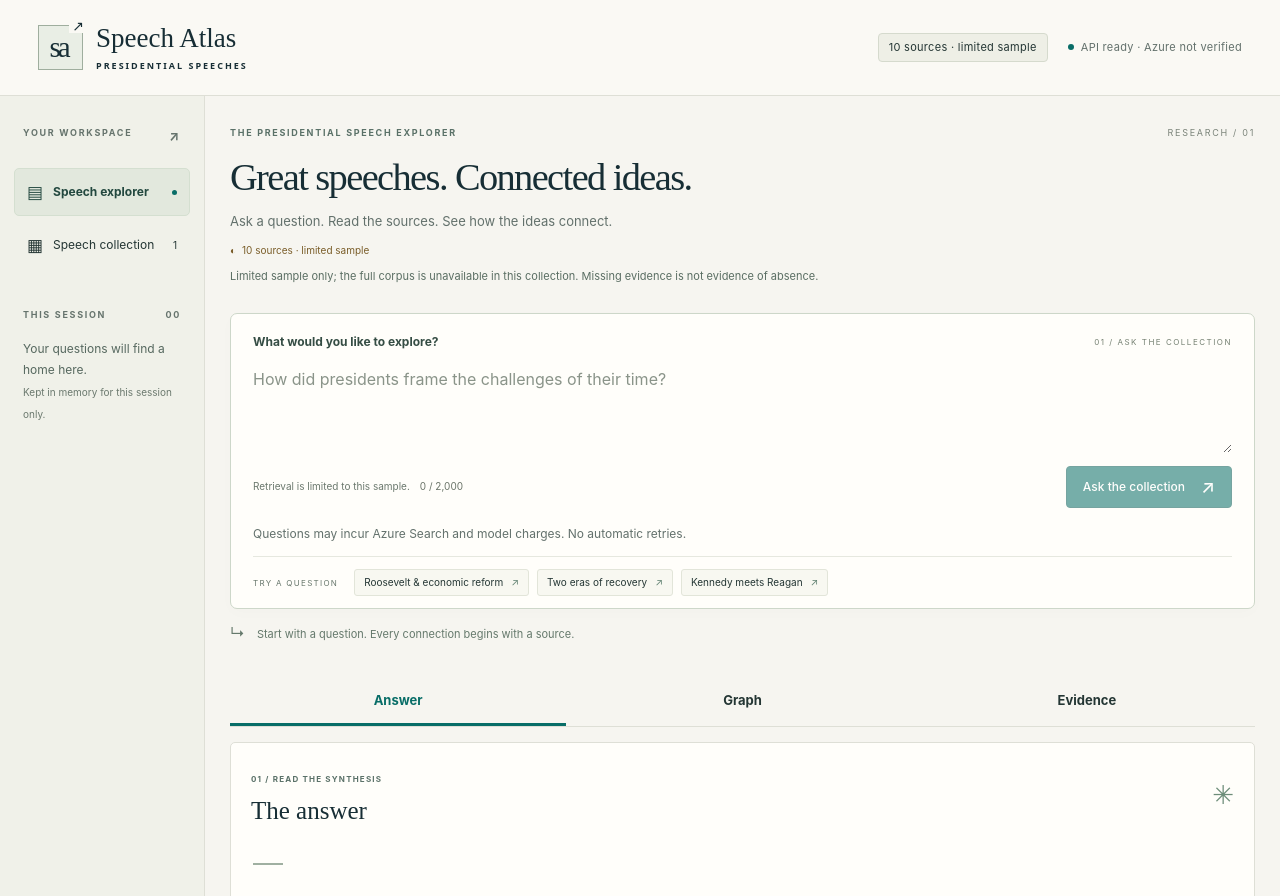
it: research workspace › cancels the browser request without a billing promise or automatic retry
Type "How are the test topics connected?" into the text box labelled "What would you like to explore?" at (742, 402), box [253, 352, 1232, 453]
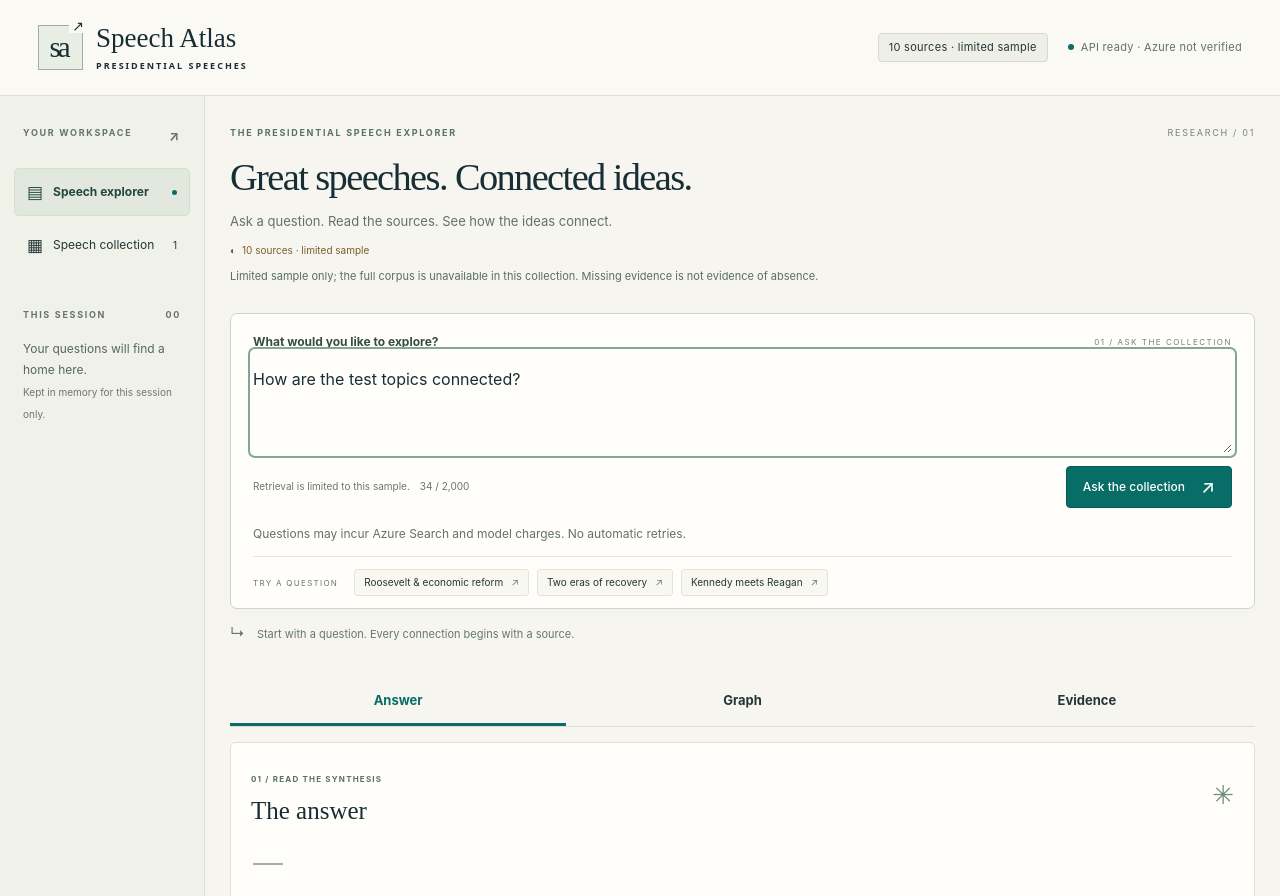
Click the button "Ask the collection ↗" at (1149, 487), box [1066, 466, 1232, 508]
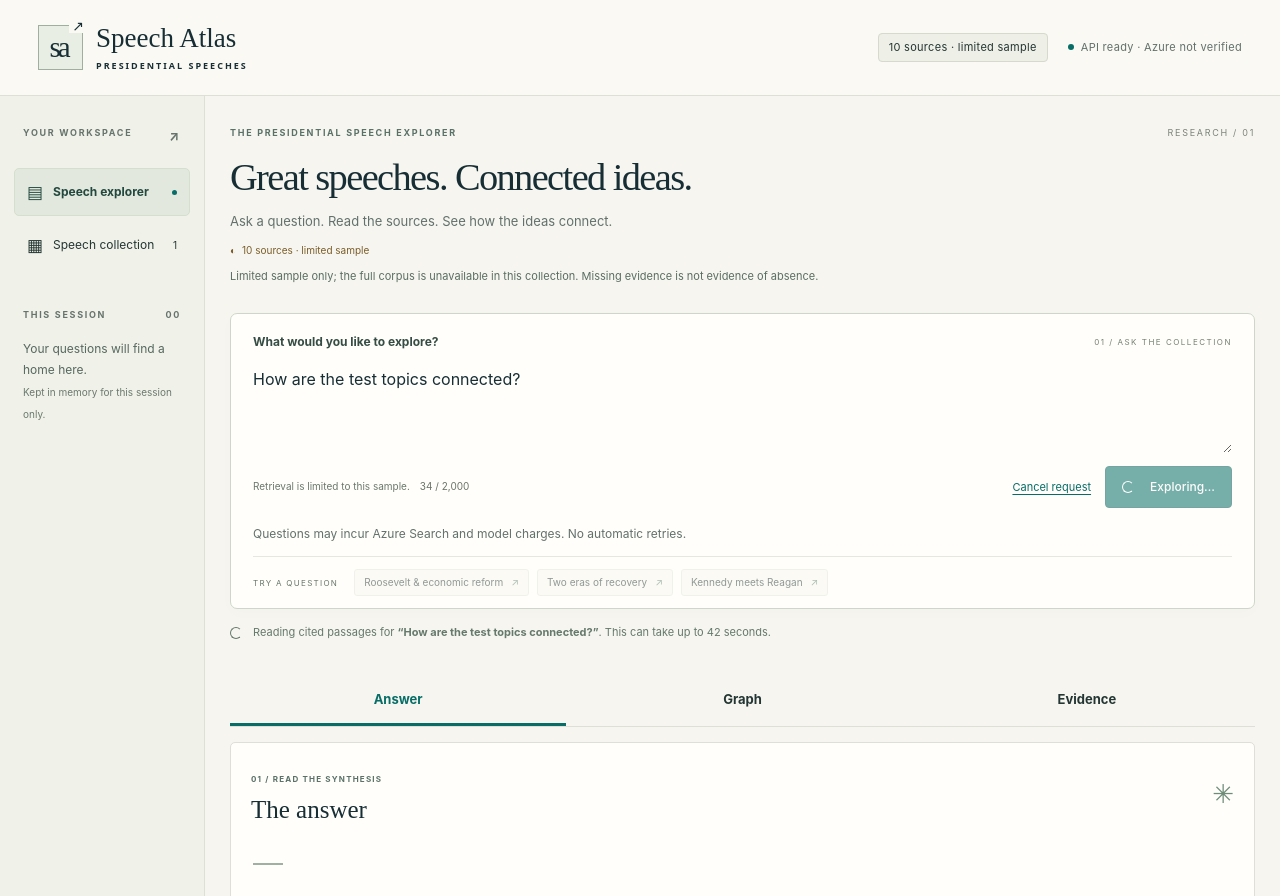
Click the button "Cancel request" at (1052, 487), box [1012, 473, 1091, 501]
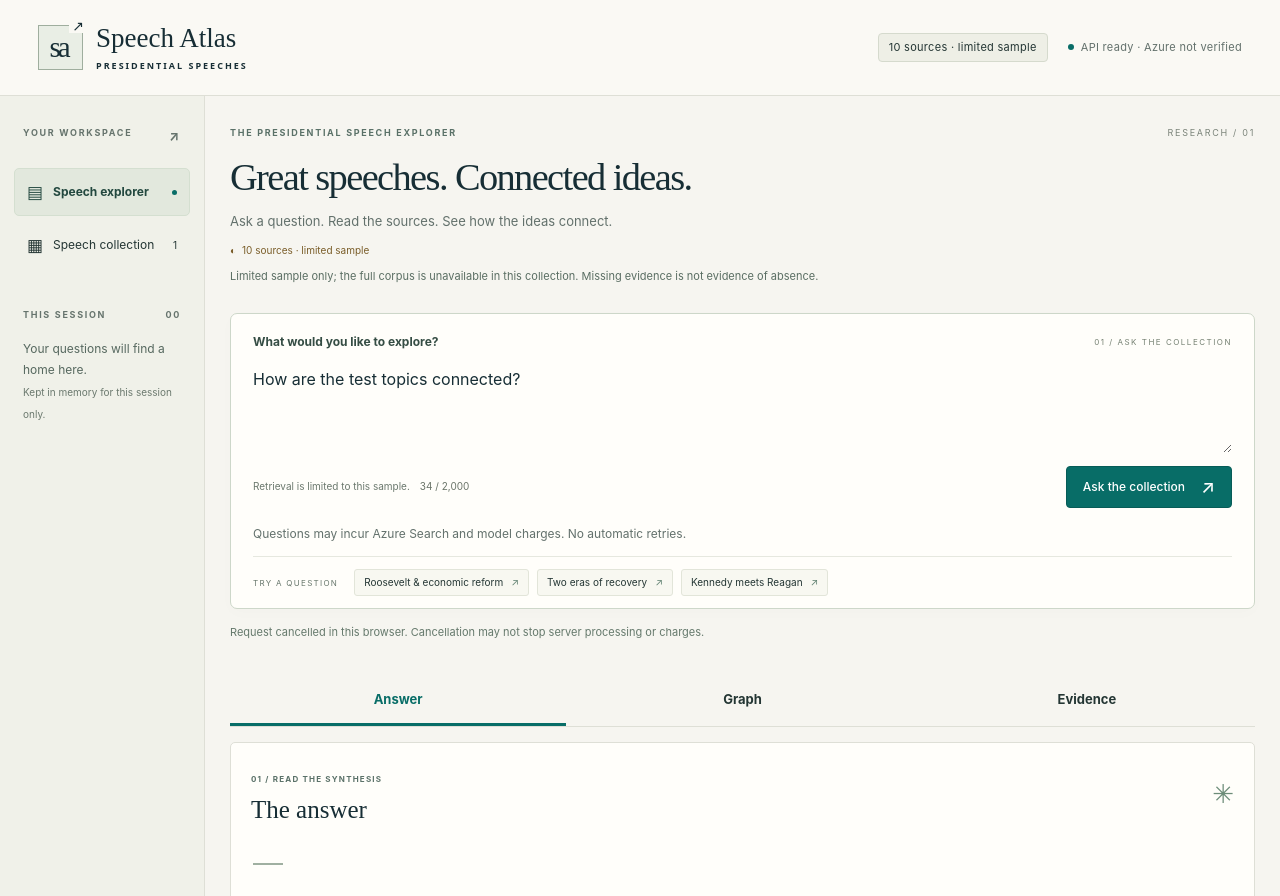
expect the text "Cancellation may not stop server processing or charges" is shown: met, box [411, 625, 704, 639]
expect the button "Ask the collection ↗" is enabled: met, box [1066, 466, 1232, 508]
